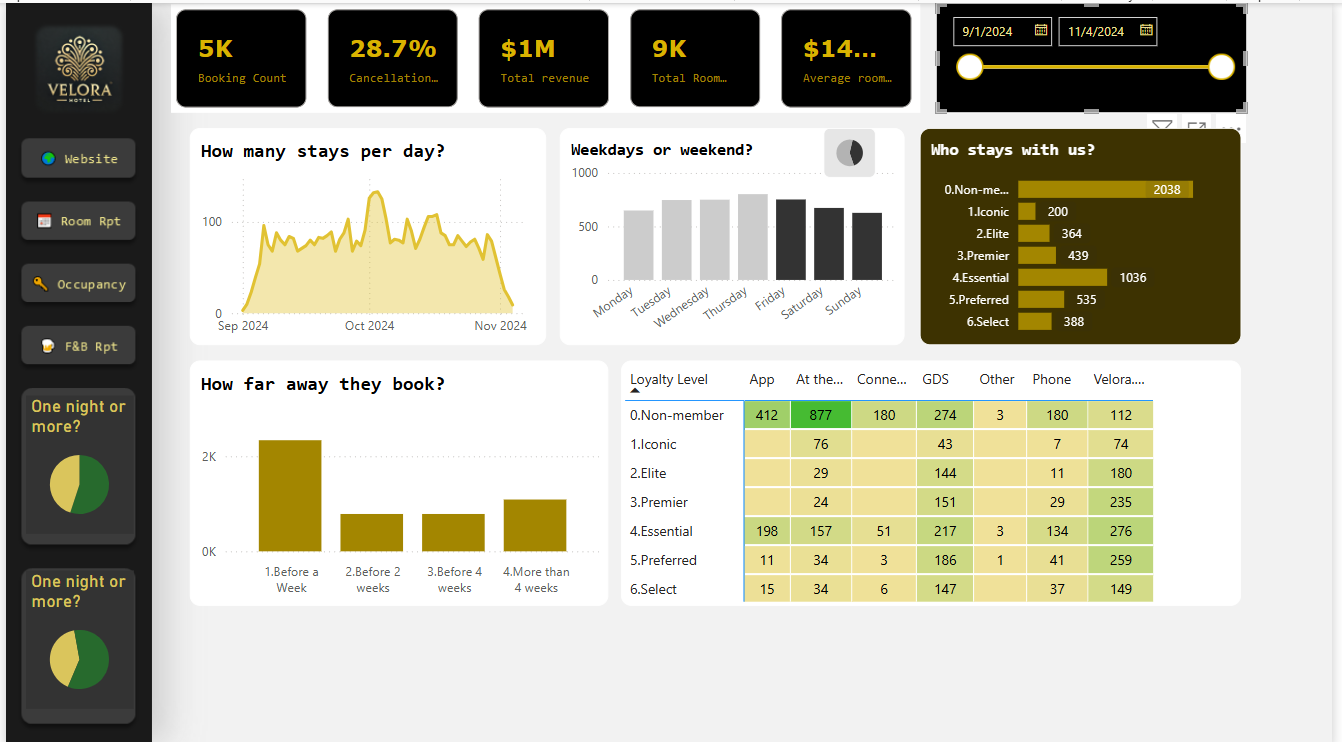

This screenshot's page, from the dashboard's own definition file:
{"tool":"powerbi","page":{"name":"Page 1","canvas":[1280,720],"ordinal":0},"visuals":[{"type":"cardVisual","fields":{"Data":["Bookings.Booking Count","Bookings.Cancellation Pct","Bookings.Total revenue","Bookings.Total Room Nights","Bookings.Average room rate"]},"box":[159,1,723,105],"z":0},{"type":"lineChart","title":"How many stays per day?","fields":{"Category":["Bookings.Stay Date"],"Y":["Bookings.Booking Count"]},"box":[177.3,120.6,343.8,209.9],"z":1000},{"type":"slicer","fields":{"Values":["Bookings.Stay Date"]},"box":[898.2,0,300,106.4],"z":2000},{"type":"clusteredColumnChart","title":"Weekdays or weekend?","fields":{"Category":["Bookings.Day Name"],"Y":["Bookings.Booking Count"]},"box":[534.5,120.6,333,209.9],"z":3000},{"type":"clusteredBarChart","title":"Who stays with us?","fields":{"Category":["Bookings.Loyalty Level"],"Y":["Bookings.Booking Count"]},"box":[881.9,120.6,310.1,209.9],"z":4000},{"type":"columnChart","title":"How far away they book?","fields":{"Category":["Bookings.How far away bucket"],"Y":["Bookings.Booking Count"]},"box":[177.3,345,404.2,236.5],"z":5000},{"type":"pivotTable","fields":{"Rows":["Bookings.Loyalty Level"],"Columns":["Bookings.Booking Channel"],"Values":["Bookings.Booking Count"]},"box":[593.6,345,598.4,236.5],"z":6000},{"type":"pieChart","fields":{"Y":["Bookings.Booking Count"],"Category":["Bookings.Weekday_or_Weekend"]},"box":[789,120.6,50.7,48.3],"z":7000},{"type":"pieChart","title":"One night or more?","fields":{"Y":["Bookings.Multi-night booking count","Bookings.Single-night booking count"]},"box":[19.3,378.8,103.8,133.9],"z":7001},{"type":"pieChart","title":"One night or more?","fields":{"Y":["Bookings.Not Loyal Customer Booking count","Bookings.Loyal Customer Booking count"]},"box":[19.3,547.7,103.8,133.9],"z":7002}]}

Visuals, with their boxes on the page's 1280x720 design canvas (x1, y1, x2, y2). These are canvas units, not pixel positions in the 1342x742 screenshot, which may show the page scaled, cropped or inside an application window:
cardVisual - Bookings.Booking Count x Bookings.Cancellation Pct: 159,1,882,106
"How many stays per day?" lineChart: 177,121,521,330
slicer - Bookings.Stay Date: 898,0,1198,106
"Weekdays or weekend?" clusteredColumnChart: 534,121,868,330
"Who stays with us?" clusteredBarChart: 882,121,1192,330
"How far away they book?" columnChart: 177,345,582,582
pivotTable - Bookings.Loyalty Level x Bookings.Booking Channel: 594,345,1192,582
pieChart - Bookings.Booking Count x Bookings.Weekday_or_Weekend: 789,121,840,169
"One night or more?" pieChart: 19,379,123,513
"One night or more?" pieChart: 19,548,123,682
